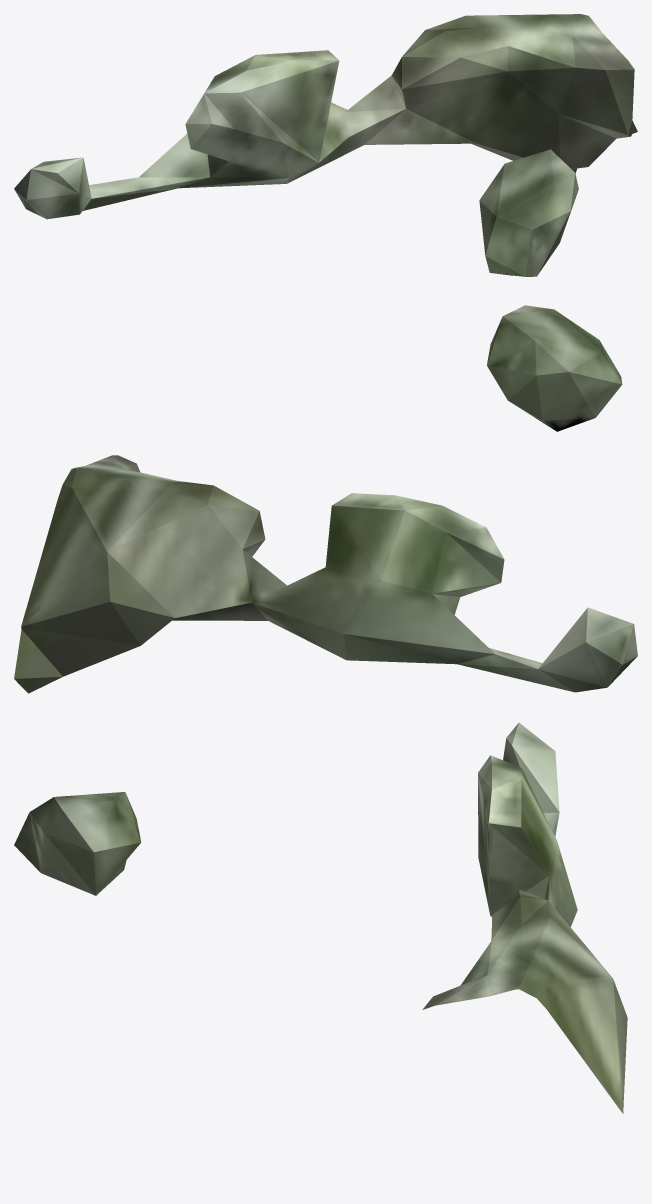
3 views of the same model, one above another, from view 1: azimuth 30°, elevation 25°; view 2: azimuth 150°, elevation 25°; view 3: azimuth 270°, elevation 25° (orthographic). The views are drawn at different scales.
Size of the model in its own units: 1.85 by 0.8086 by 1.7.
Materials: 1 (1 with a texture image).
